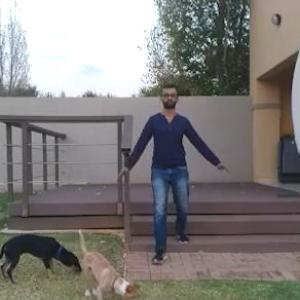land: (128, 90, 212, 247)
